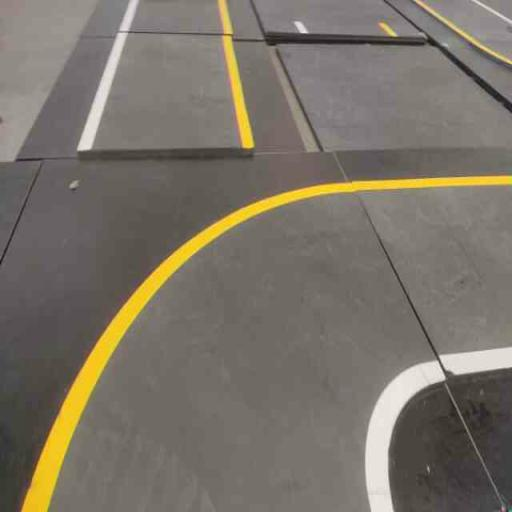right: (17, 167, 453, 511)
